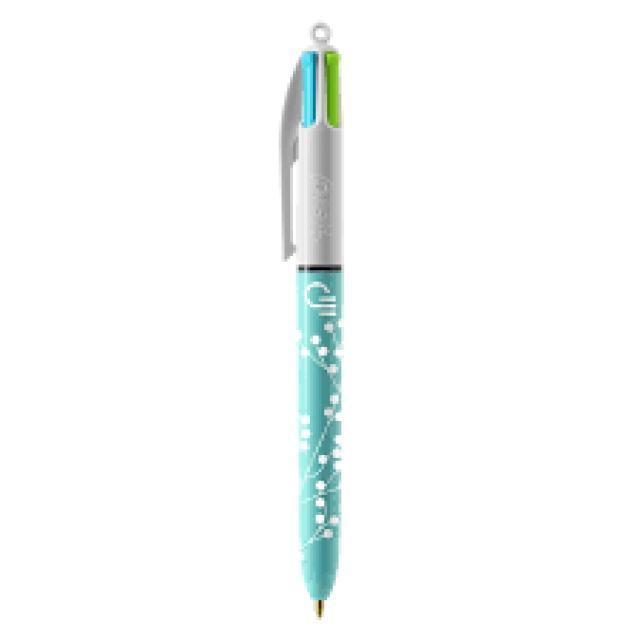pen: (280, 22, 344, 616)
